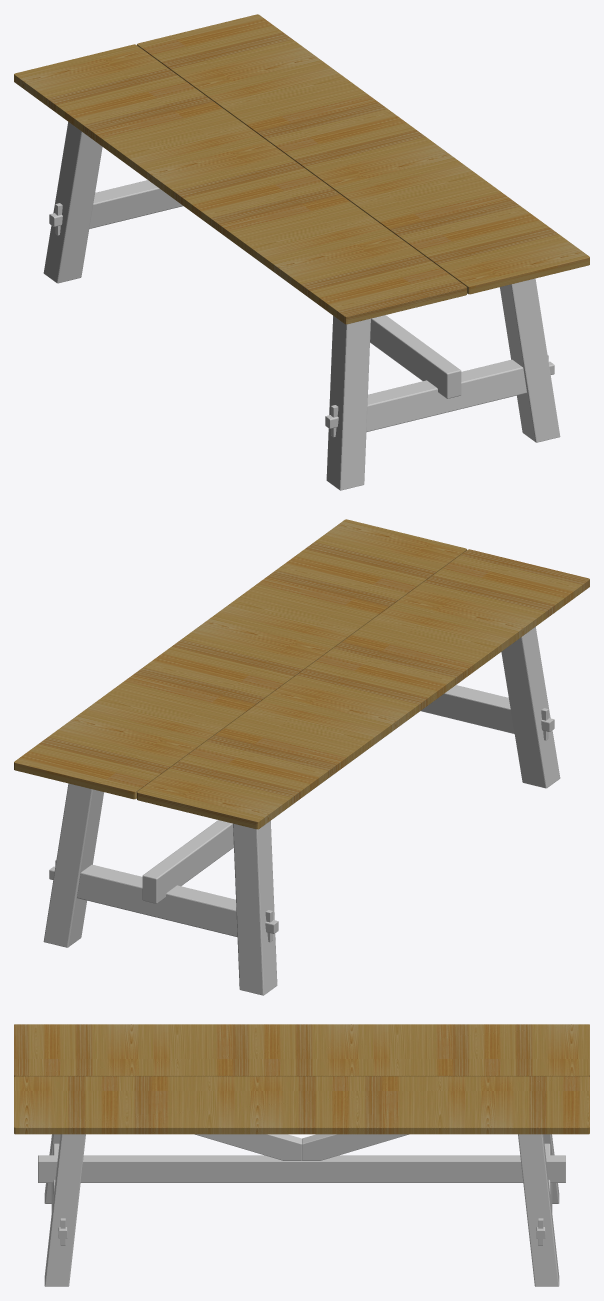
3 renders of one model, top to bottom at view 1: azimuth 30°, elevation 25°; view 2: azimuth 150°, elevation 25°; view 3: azimuth 270°, elevation 25°, orthographic. The views are drawn at different scales.
Parts seen in each view (by area): view 1: Wood, Black; view 2: Wood, Black; view 3: Wood, Black.
Part boxes in pixels (left/top/right/bottom): Wood: left=14, top=14, right=589, bottom=324; Black: left=43, top=122, right=560, bottom=490; Wood: left=14, top=519, right=589, bottom=829; Black: left=43, top=627, right=560, bottom=995; Wood: left=14, top=1024, right=589, bottom=1134; Black: left=38, top=1134, right=565, bottom=1286.
Size of the model in its own units: 1 by 2.35 by 0.74.
